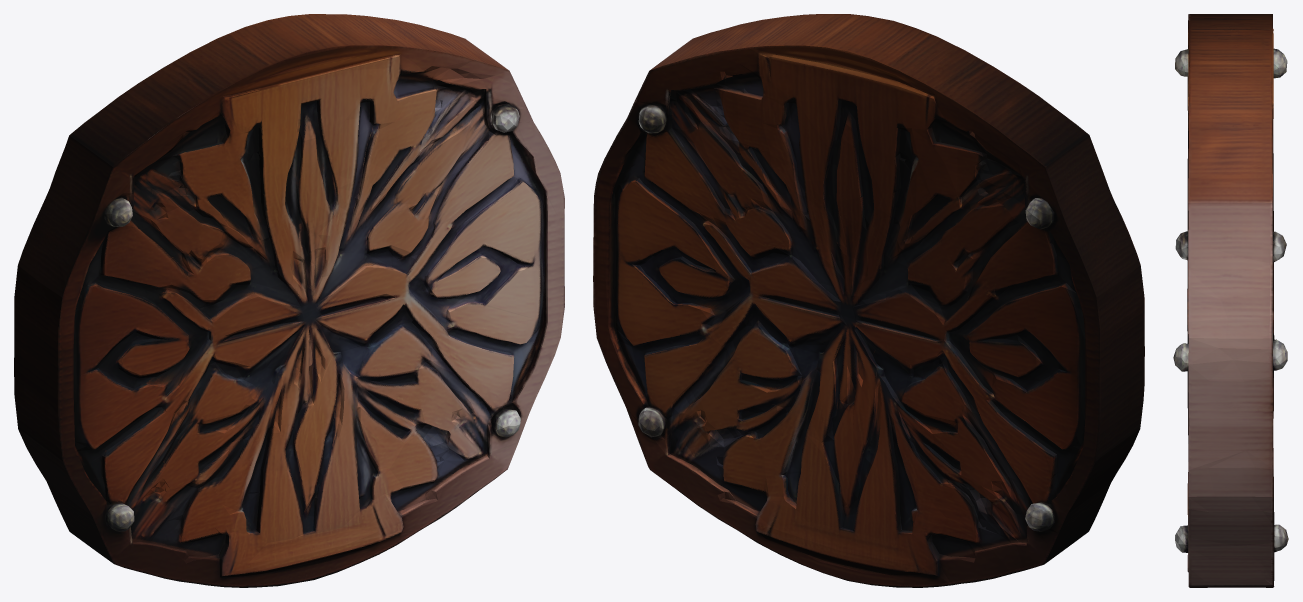
The model's file is wooden-belt-buckle-futuristic.jpeg.glb.
The picture shows the model from 3 angles, left to right: view 1: azimuth 30°, elevation 25°; view 2: azimuth 150°, elevation 25°; view 3: azimuth 270°, elevation 25°; orthographic projection. The views are drawn at different scales.
Parts seen in each view (by area): view 1: world; view 2: world; view 3: world.
Boxes of the visible parts, <box> form: world: <box>14,14,564,587</box>; world: <box>593,14,1144,587</box>; world: <box>1173,14,1288,587</box>.
Size of the model in its own units: 1 by 0.9987 by 0.2042.
1 material, 1 textured.
